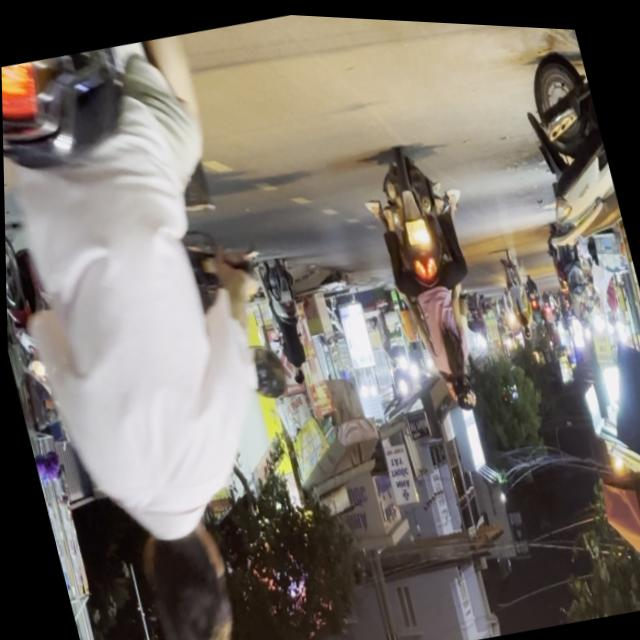helmet: (444, 365, 476, 410)
licenseplate: (0, 20, 348, 640), (498, 36, 640, 398), (354, 134, 504, 424)
motorcyclist: (125, 503, 244, 640)
nohelmet: (402, 213, 427, 242)
